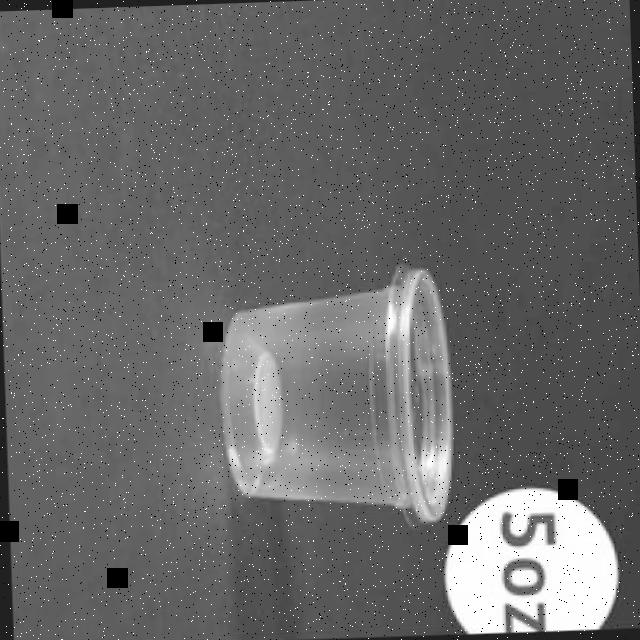plastic_box: (216, 268, 454, 534)
